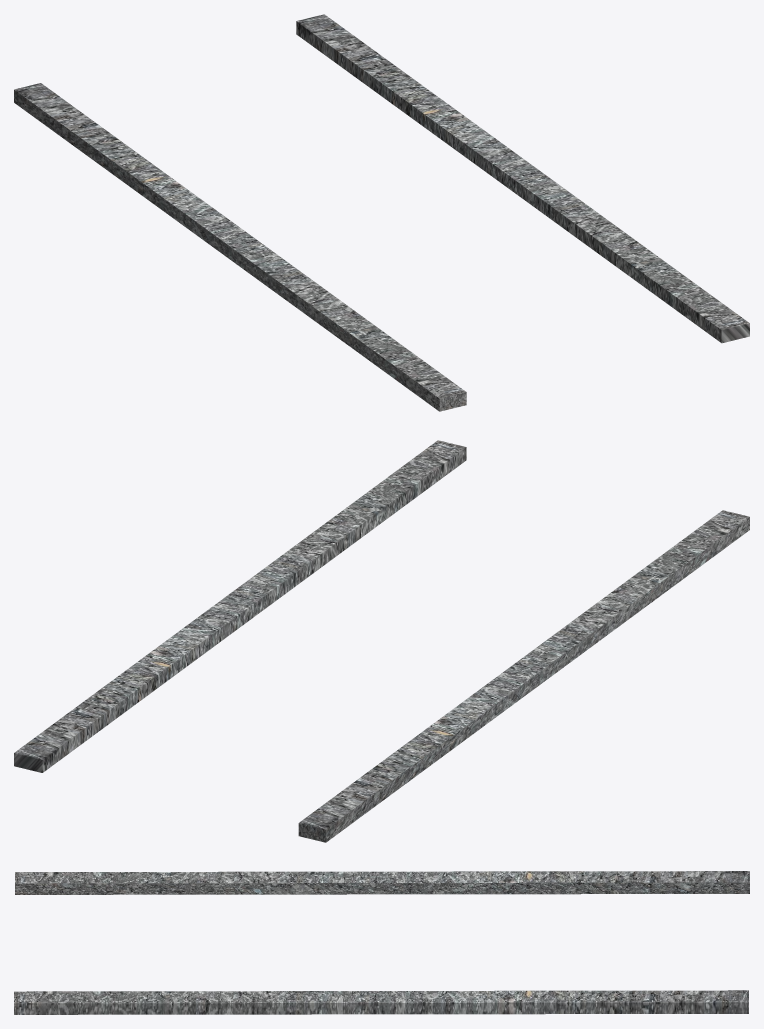
File: banqueta.obj
The picture shows the model from 3 angles, top to bottom: view 1: azimuth 30°, elevation 25°; view 2: azimuth 150°, elevation 25°; view 3: azimuth 270°, elevation 25°; orthographic projection. The views are drawn at different scales.
Parts seen in each view (by area): view 1: pCube13; view 2: pCube13; view 3: pCube13.
Part boxes in pixels (x1,y1,x2,y2): pCube13: (14, 14, 749, 411); pCube13: (14, 440, 749, 842); pCube13: (14, 871, 749, 1014).
Bounding box in the file's own units: 9.67 × 0.3891 × 22.72.
Materials: 1 (1 with a texture image).
